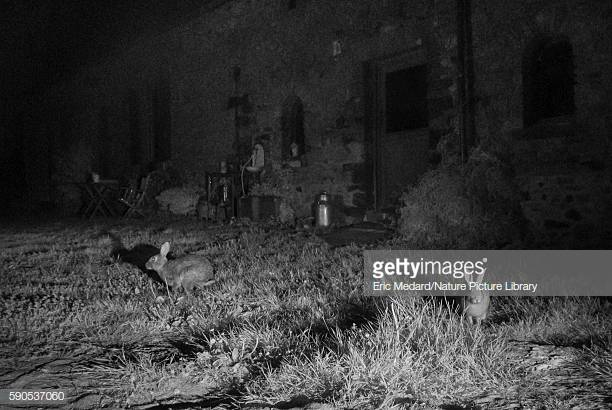rabbit: (152, 231, 228, 304), (454, 259, 502, 322)
